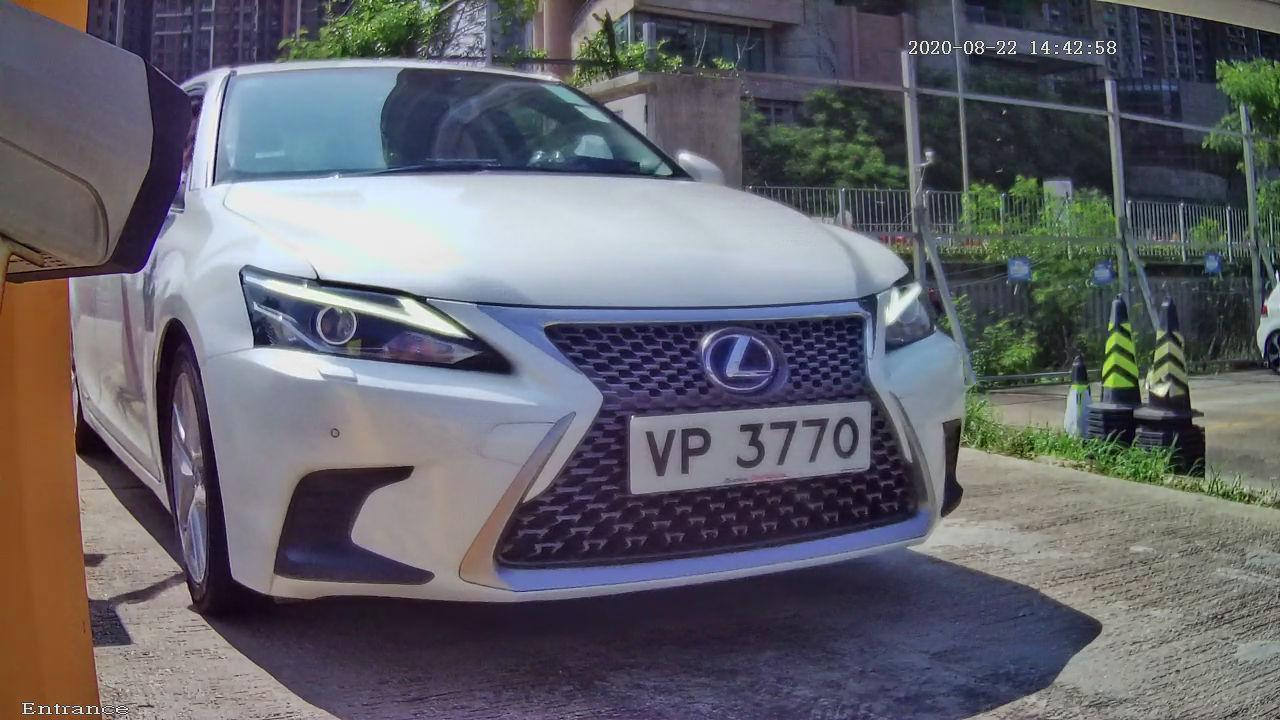Car: (63, 17, 1058, 666)
License Plate: (569, 356, 896, 519)
